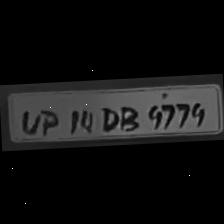4: (144, 99, 162, 130), (189, 98, 205, 128)
7: (174, 100, 190, 128), (160, 100, 174, 130)
B: (114, 101, 140, 131)
D: (95, 103, 118, 132)
P: (34, 105, 60, 136)
U: (14, 105, 37, 136)
